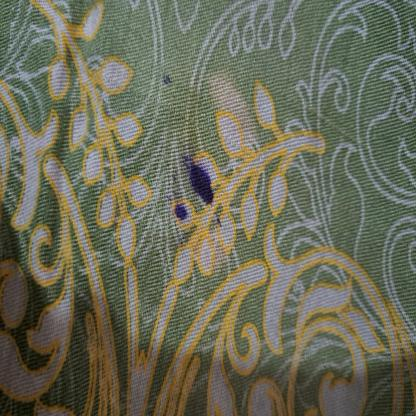spot: (179, 148, 218, 210), (173, 167, 191, 228), (194, 158, 216, 207), (164, 68, 172, 91)
